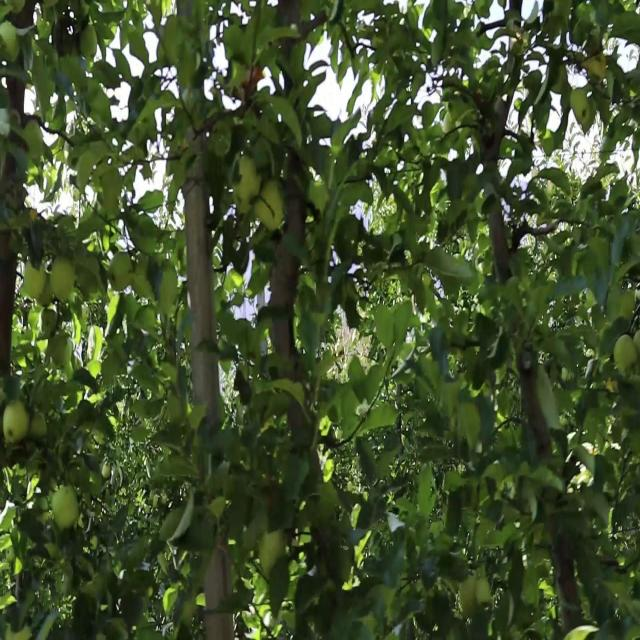apple: (256, 177, 286, 235), (236, 156, 263, 212), (52, 255, 76, 300), (4, 405, 30, 446), (616, 334, 640, 377), (56, 490, 80, 533), (24, 263, 48, 299), (460, 575, 479, 619), (112, 255, 134, 292), (0, 28, 21, 66), (588, 49, 609, 85), (548, 63, 569, 98), (244, 63, 263, 98), (8, 78, 27, 112), (616, 291, 636, 322), (40, 312, 58, 340), (32, 412, 48, 441), (0, 234, 14, 261), (40, 284, 55, 308)
